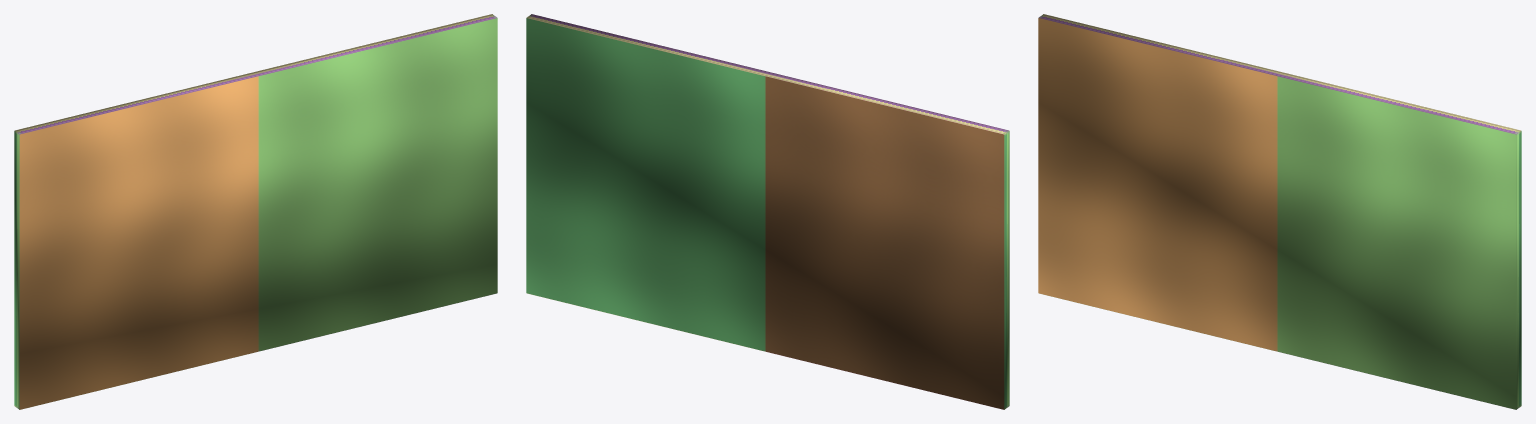
The model's file is fence_wood.glb.
The picture shows the model from 3 angles, left to right: view 1: azimuth 30°, elevation 25°; view 2: azimuth 150°, elevation 25°; view 3: azimuth 330°, elevation 25°; orthographic projection.
Parts seen in each view (by area): view 1: col; view 2: col; view 3: col.
Part boxes in pixels (x1,y1,x2,y2): col: [14, 14, 497, 409]; col: [526, 14, 1009, 409]; col: [1038, 14, 1521, 409].
Size of the model in its own units: 2 by 1.1 by 0.0382.
Materials: 1 (1 with a texture image).
